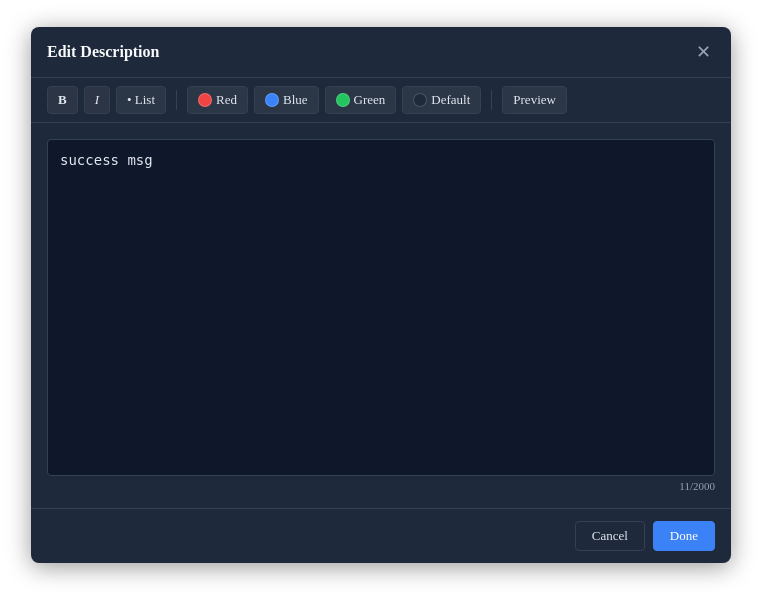
Scenario: DescriptionModal › toolbar color buttons › wraps selected text with green color markers
Click the button with test id "toolbar-color-green" at [360, 100], box [325,86,396,114]
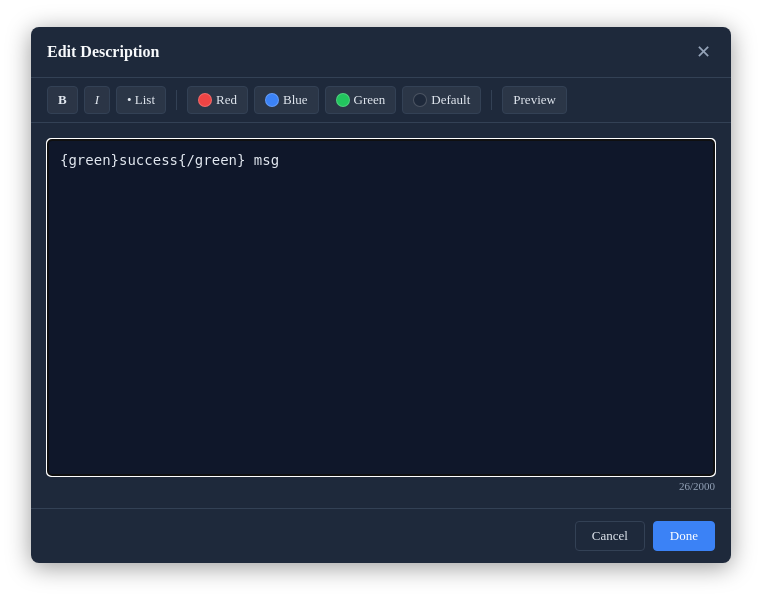
Expected: the text box with test id "description-modal-textarea" holds "{green}success{/green} msg", [47,139,715,476]
